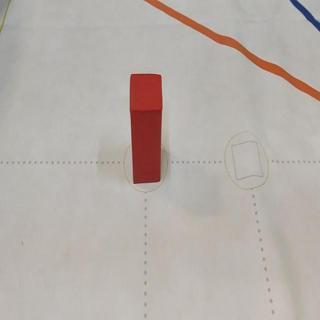redbox: (129, 71, 164, 184)
